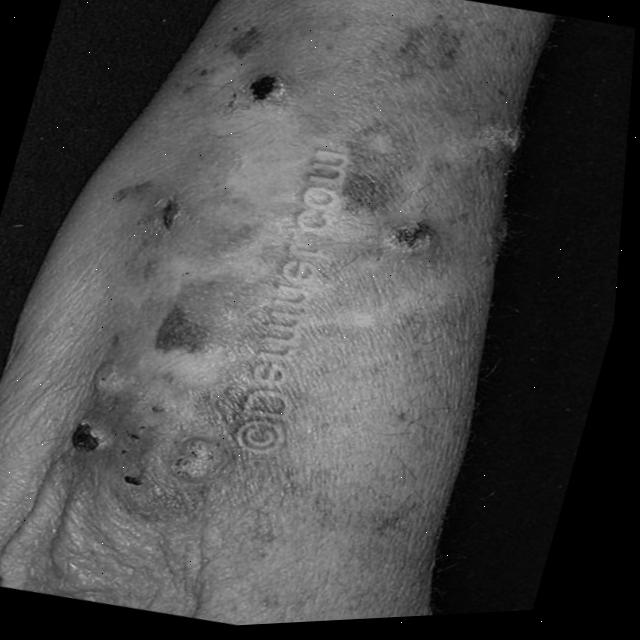Eczema: (0, 0, 527, 553)
